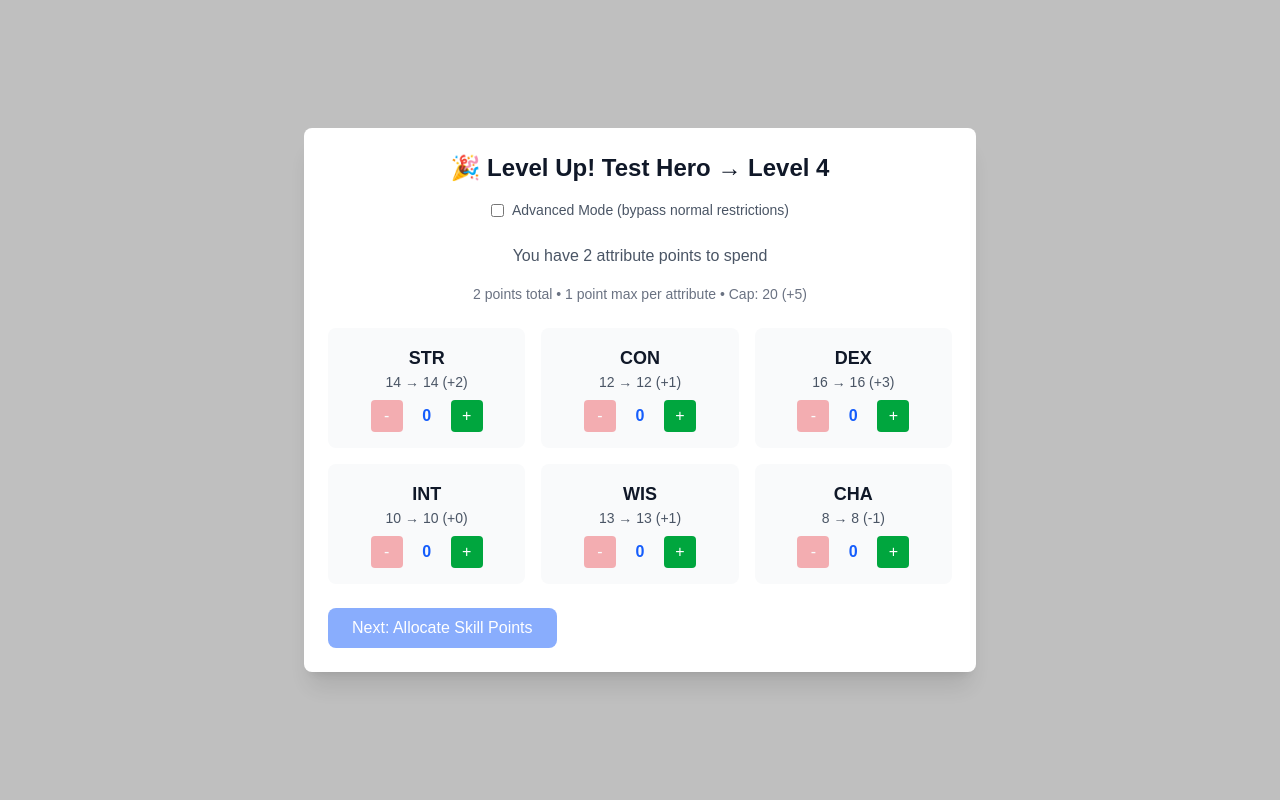
LevelUpModal › Attributes Step - Normal Mode › enforces normal mode restrictions - max 2 different attributes
Click the 1st button "+".
click(467, 416)  # box [451,400,483,432]
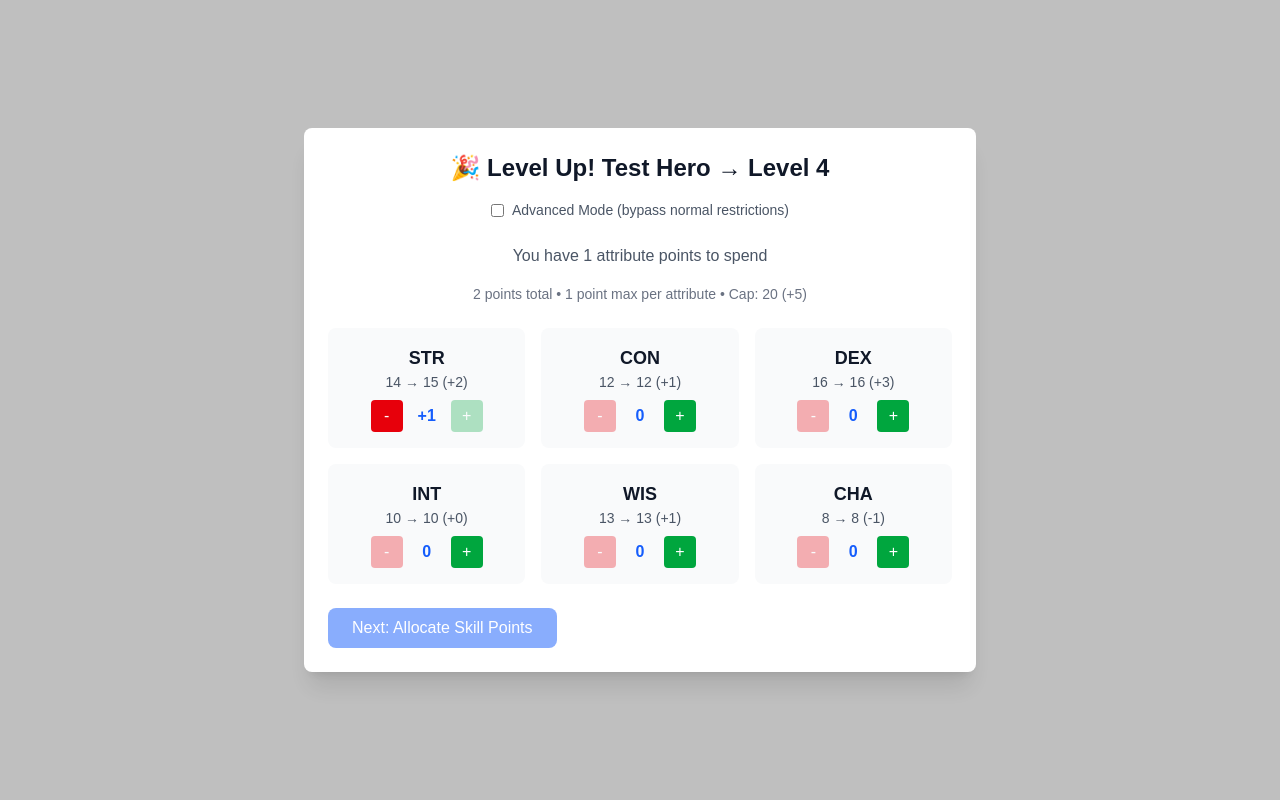
Click the button "+" below "CON".
click(680, 416)  # box [664,400,696,432]
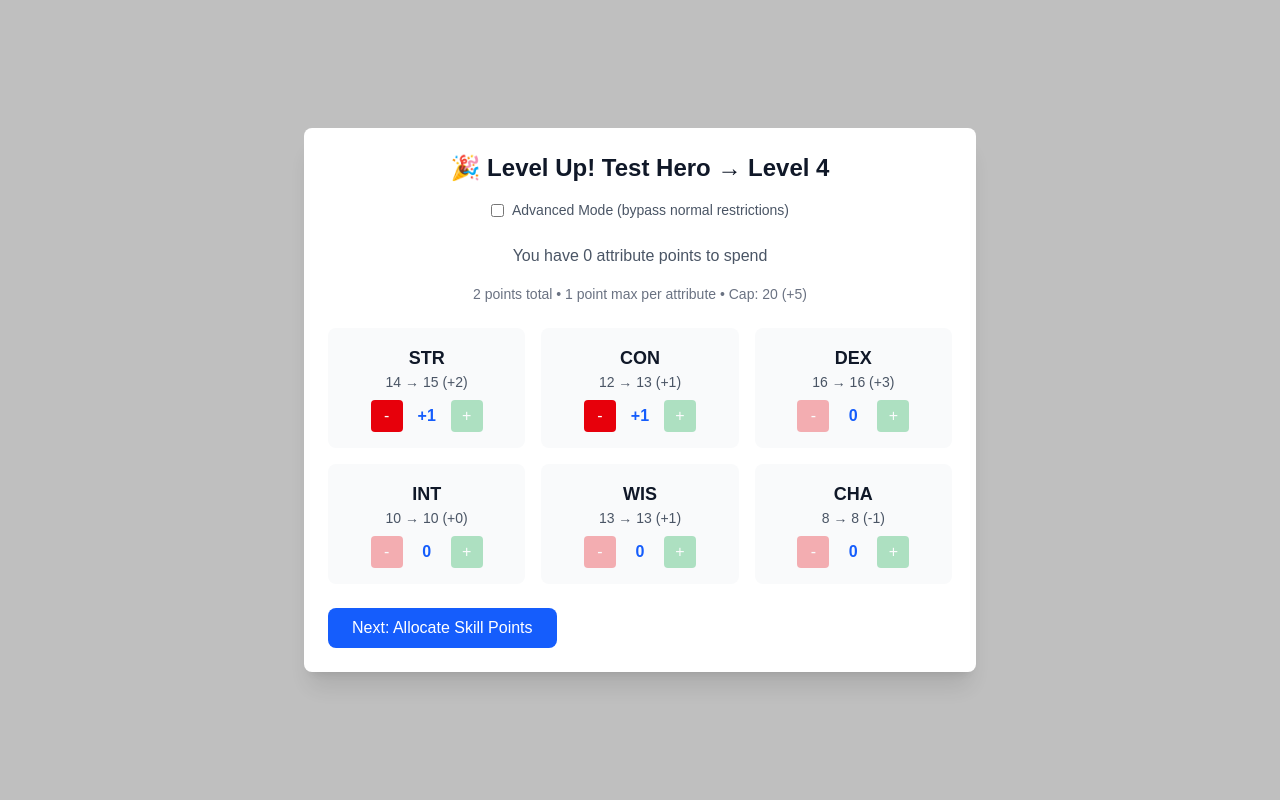
Result: the button "+" below "DEX" is disabled at [877,400,909,432]
Result: the 4th button "+" is disabled at [451,536,483,568]
Result: the button "+" below "WIS" is disabled at [664,536,696,568]
